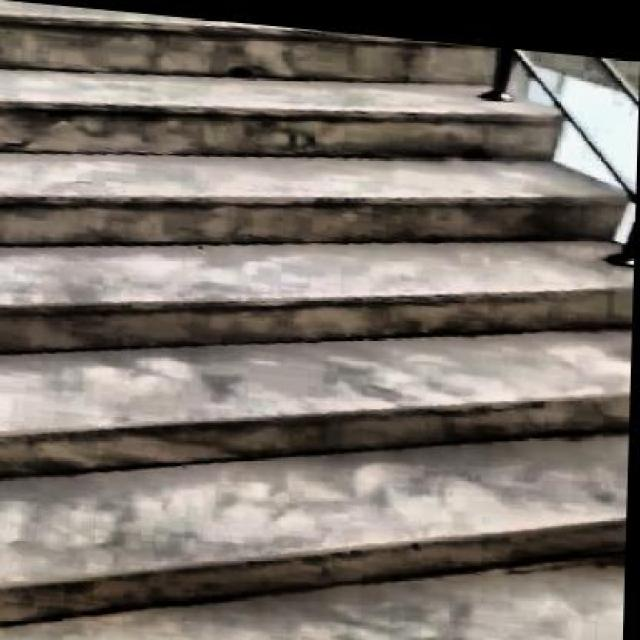stair: (0, 3, 635, 638)
